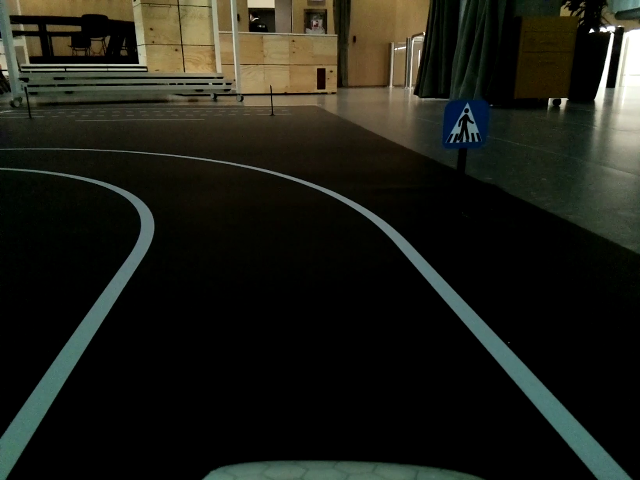pedestrians: (443, 101, 485, 147)
